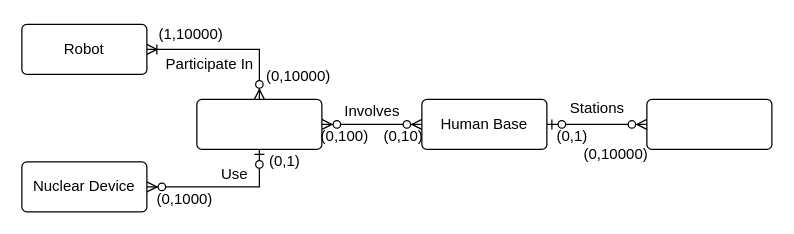
The diagram is 794 pixels wide and 234 high, and some of its shapes have lost their labels. Each missing label, with the centre of its shape:
"Humans" goes at (709,123).
"Operation" goes at (259,123).
